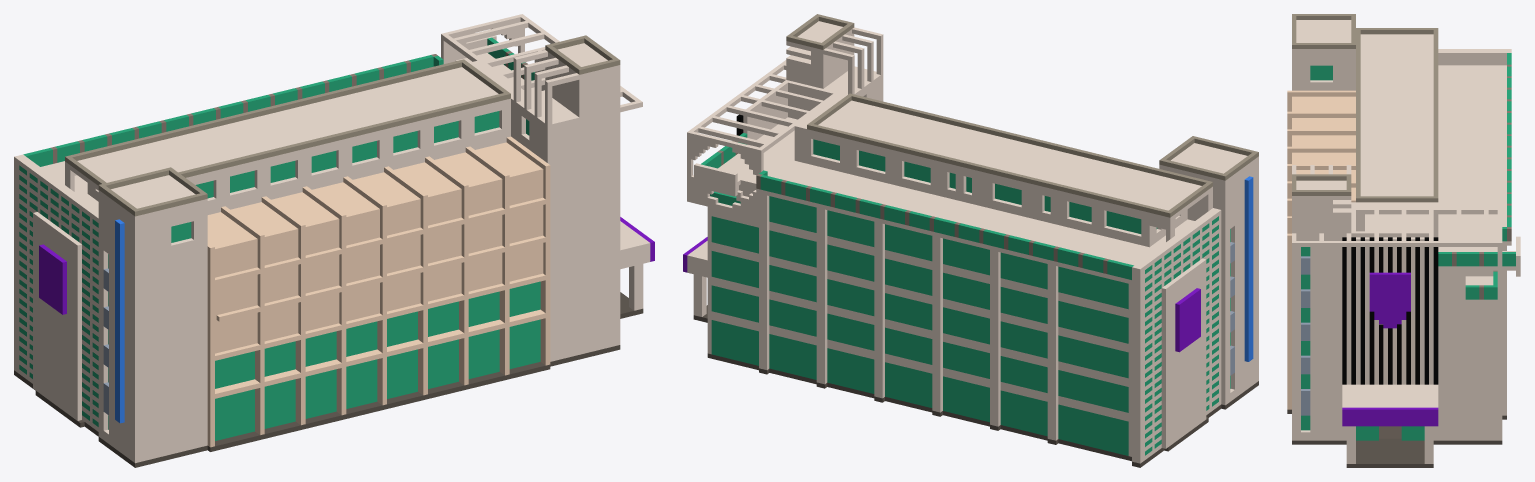
The model's file is start-up-zone-dao-yuan.obj.
3 renders of one model, left to right at view 1: azimuth 30°, elevation 25°; view 2: azimuth 150°, elevation 25°; view 3: azimuth 270°, elevation 25°, orthographic. The views are drawn at different scales.
Size of the model in its own units: 12.2 by 6.1 by 5.1.
Materials: 1 (1 with a texture image).
